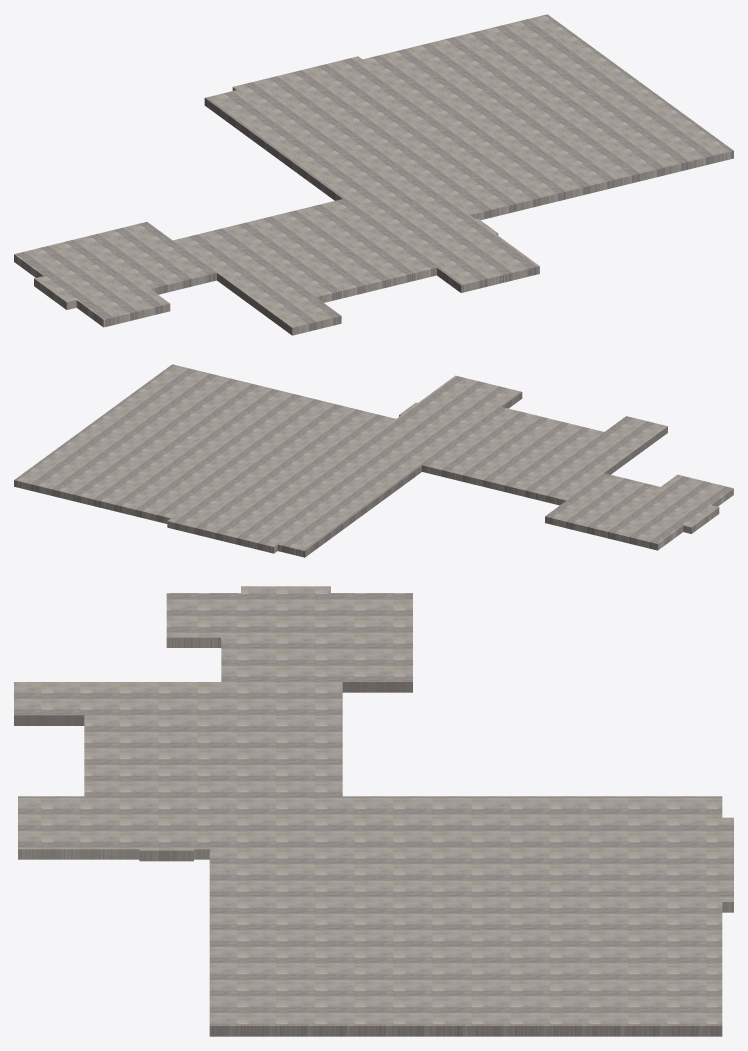
File: 1860_kitchen_Floor_WatercrestPinePlusReclaimedPine.gltf
3 renders of one model, top to bottom at view 1: azimuth 30°, elevation 25°; view 2: azimuth 150°, elevation 25°; view 3: azimuth 270°, elevation 25°, orthographic. The views are drawn at different scales.
Visible parts, largest first — view 1: Floor_Watercrest Pine Plus Reclaimed Pine; view 2: Floor_Watercrest Pine Plus Reclaimed Pine; view 3: Floor_Watercrest Pine Plus Reclaimed Pine.
Part boxes in pixels (box(x1,y1,x2,y2)): Floor_Watercrest Pine Plus Reclaimed Pine: box(14, 14, 733, 335); Floor_Watercrest Pine Plus Reclaimed Pine: box(14, 364, 733, 557); Floor_Watercrest Pine Plus Reclaimed Pine: box(14, 586, 733, 1036).
Bounding box in the file's own units: 26.6 × 0.3 × 18.4.
1 material, 1 textured.
